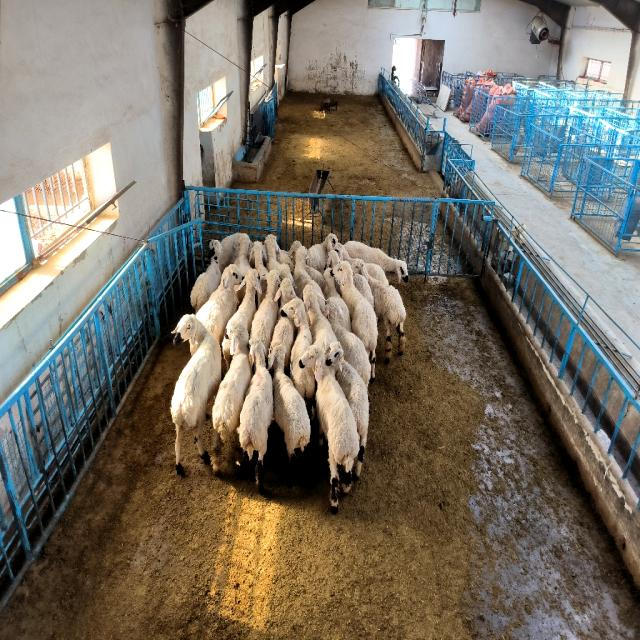sheep: (300, 343, 359, 511), (171, 315, 221, 472), (325, 342, 369, 478), (238, 337, 274, 493), (352, 258, 405, 362), (331, 262, 378, 379), (212, 320, 252, 442), (269, 342, 310, 461), (325, 298, 371, 384), (280, 297, 315, 404), (196, 263, 242, 342), (344, 240, 409, 282), (250, 270, 280, 351), (190, 240, 222, 312), (304, 285, 337, 349), (229, 268, 261, 332), (294, 247, 324, 310), (324, 268, 351, 332), (271, 310, 298, 368), (265, 235, 292, 282), (308, 233, 339, 273), (251, 242, 268, 306), (234, 233, 251, 277), (278, 278, 296, 306)
